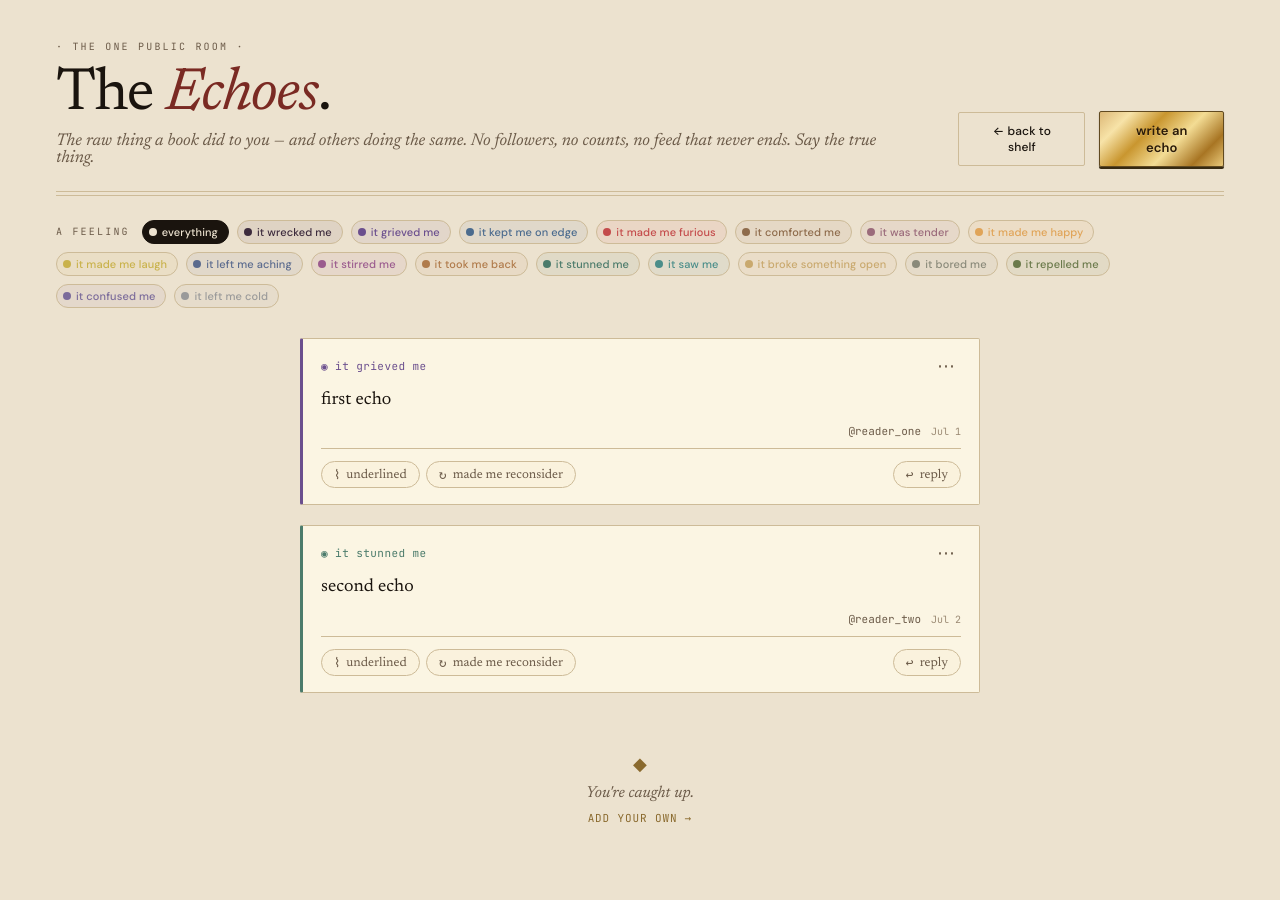
Test case: EchoesPage feed [F3.3] › blocking a handle removes their echoes from the feed
The width and height of the screenshot is (1280, 900).
Expected: the text "first echo" is shown, [321,391,391,409]
Click the button named "safety actions".
click(946, 366)  # box [931,355,961,377]
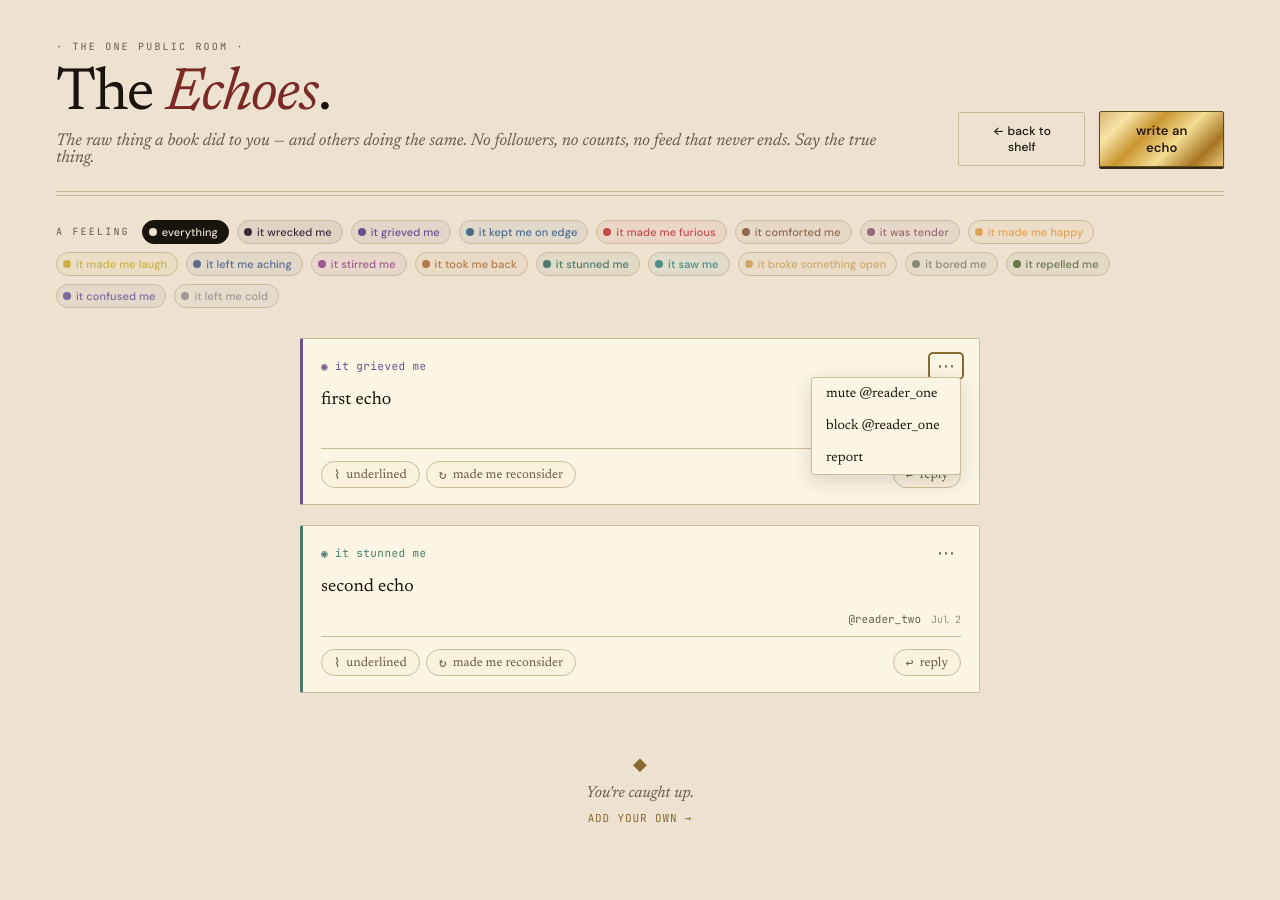
Click the menu item "block @reader_one".
click(886, 426)  # box [812,410,960,442]
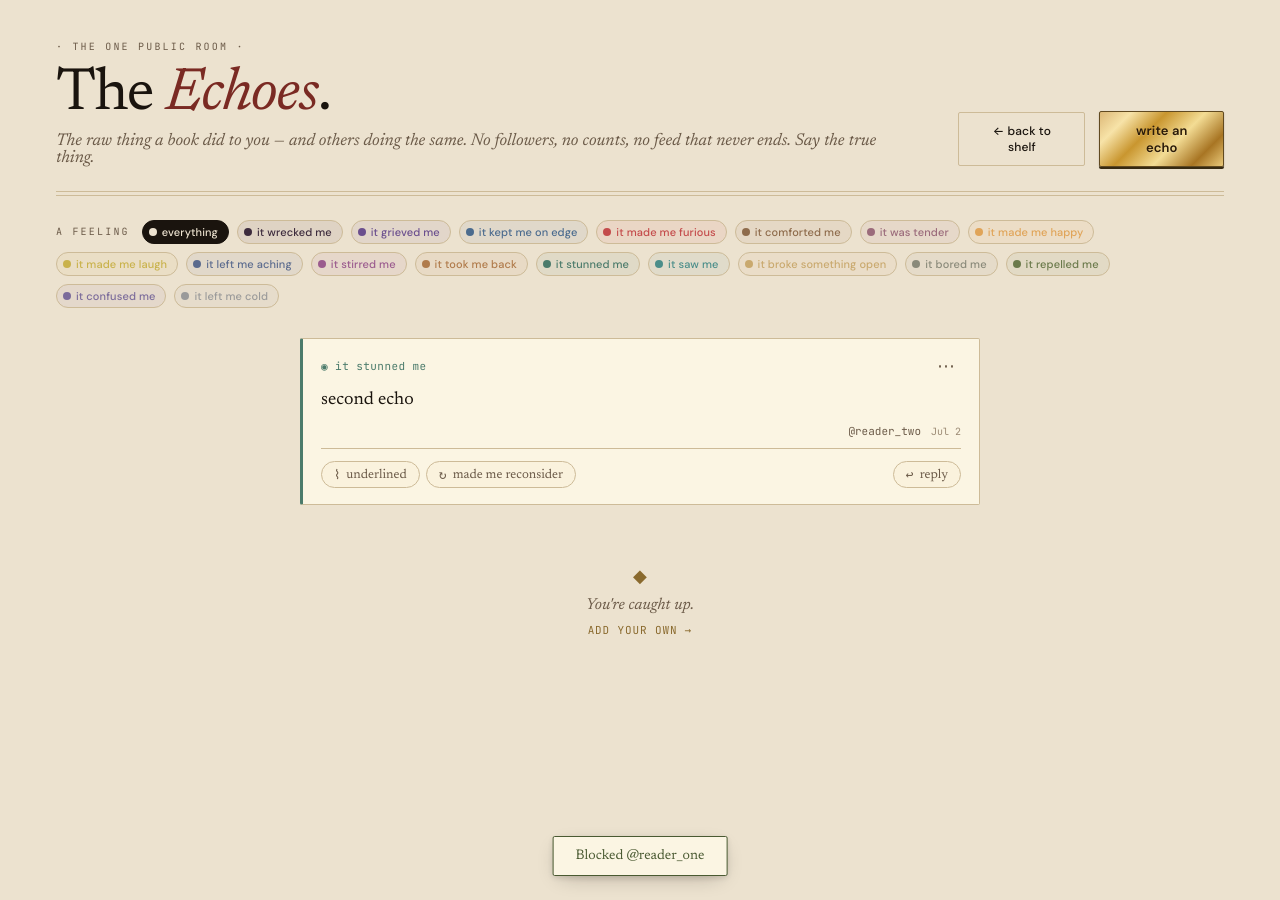
Expected: the text "second echo" is shown, [321,391,414,409]
Expected: the text "first echo" is gone
